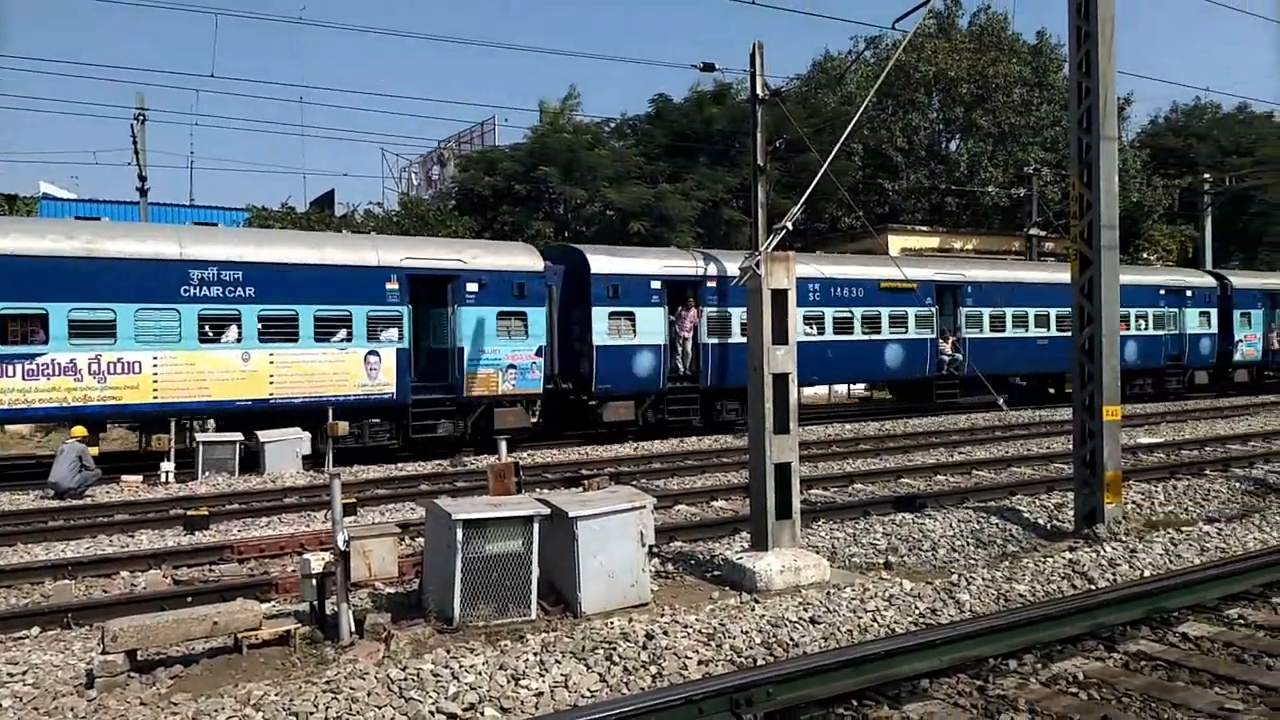Boogie: (827, 283, 870, 303)
Car Type: (167, 251, 277, 309)
